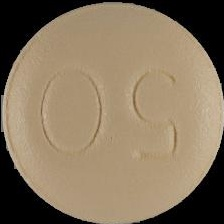50458-640: (0, 0, 224, 224)
